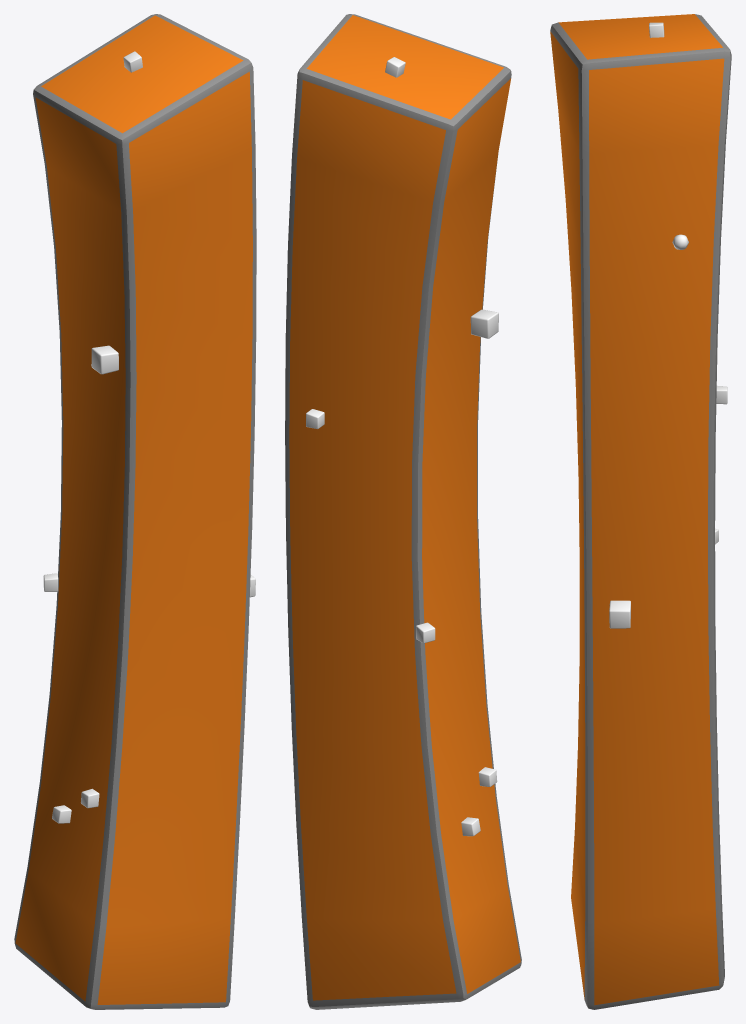
Rendered from Fry_1.FBX.
3 renders of one model, left to right at view 1: azimuth 30°, elevation 25°; view 2: azimuth 150°, elevation 25°; view 3: azimuth 270°, elevation 25°, orthographic.
Parts seen in each view (by area): view 1: Box002; view 2: Box002; view 3: Box002.
Boxes of the visible parts, x1,y1,x2,y2 form: Box002: [14, 14, 256, 1009]; Box002: [285, 14, 521, 1009]; Box002: [550, 14, 731, 1009].
Bounding box in the file's own units: 101 × 470 × 80.63.
